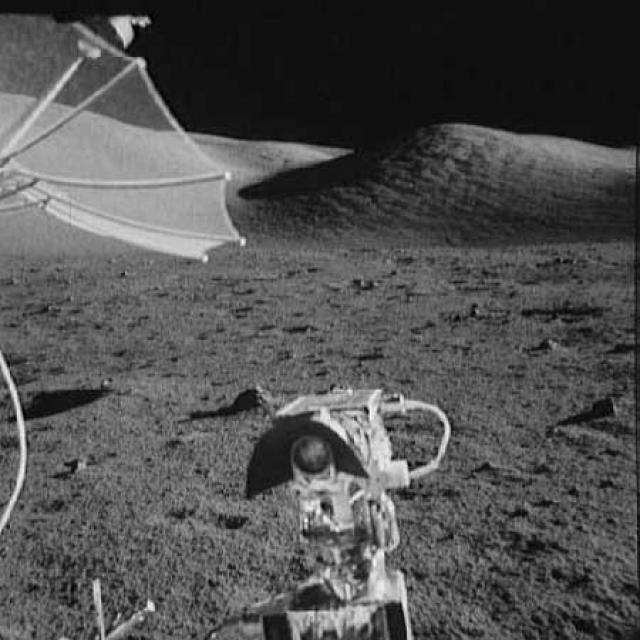artifact: (2, 12, 258, 270), (235, 380, 450, 639), (0, 343, 41, 531), (78, 573, 166, 639)
crater: (0, 371, 124, 425), (506, 299, 605, 321)
rock: (227, 377, 276, 416)
